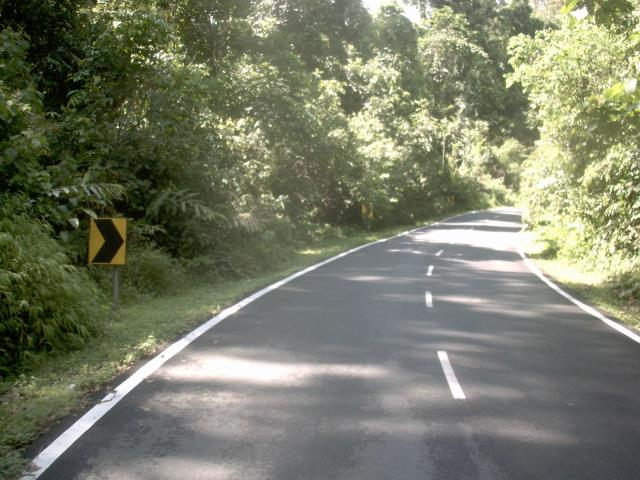traffic_sign: (78, 208, 136, 279)
